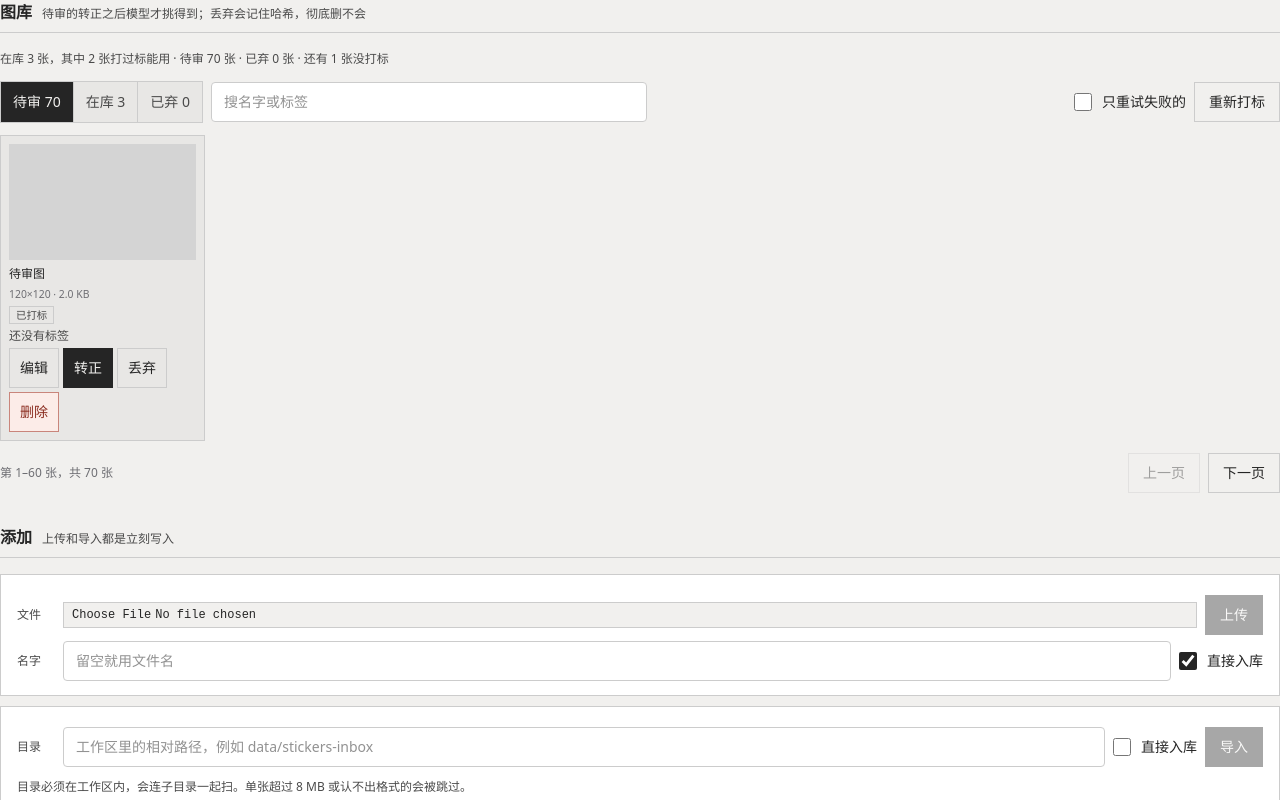
Test: 这一页没读成 › 换页签没读成，上一个页签的图不摆到这一档底下
Check: the text "待审图" is shown, box [9,265,45,282]
Click the button "在库 3" at (105, 102), box [73,82,137,122]
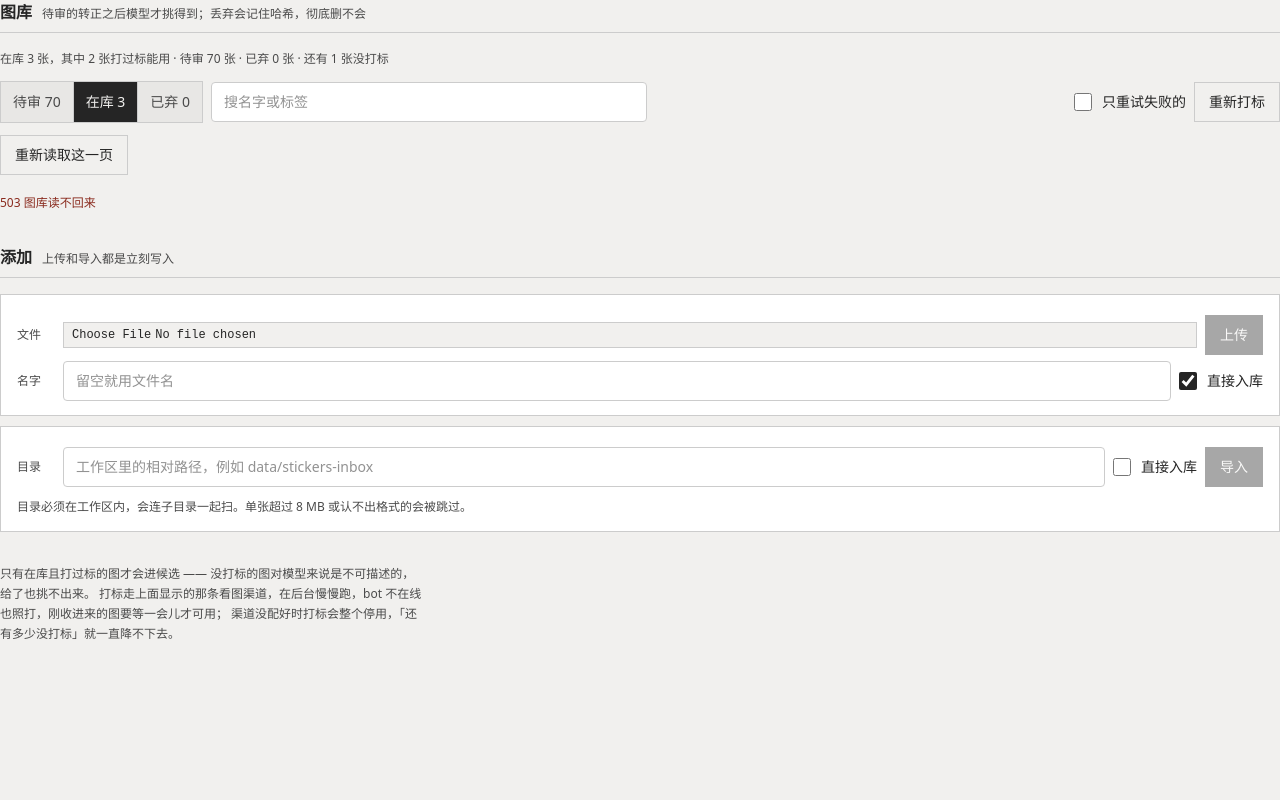
Check: the text "待审图" is gone
